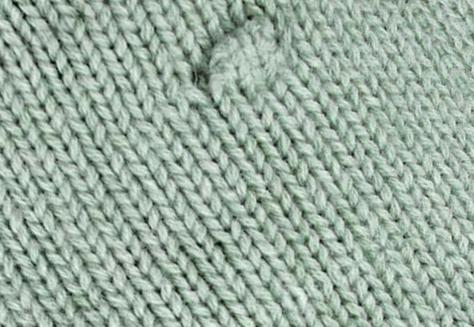knot: (200, 17, 281, 100)
